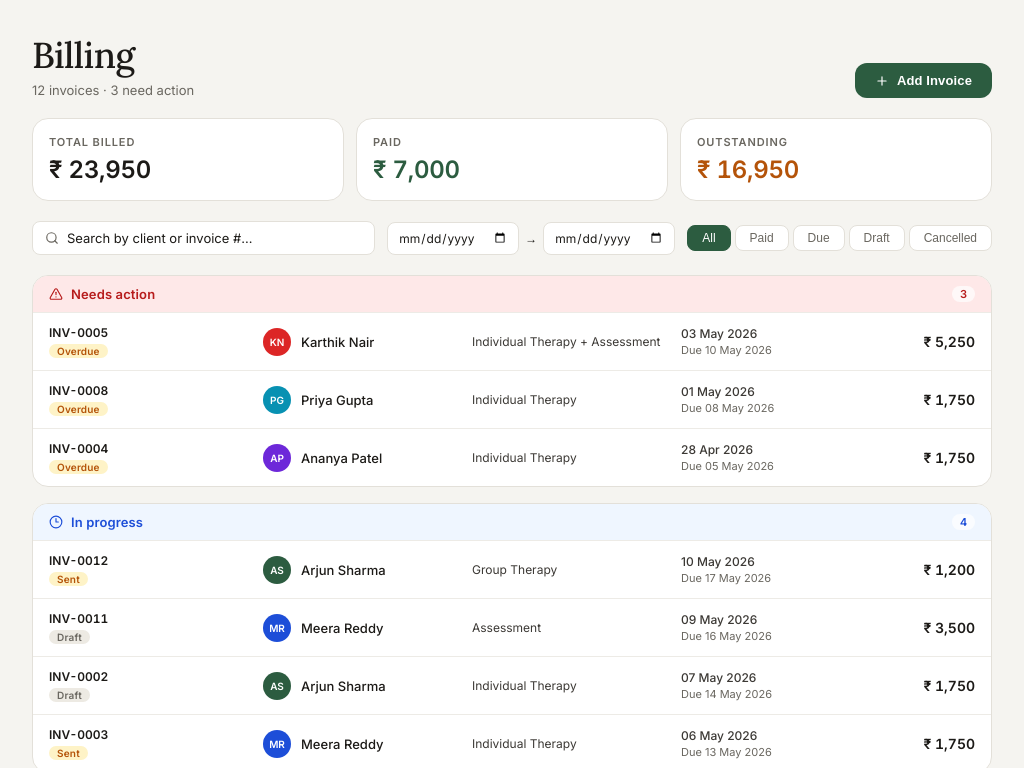
it: <Billing> page › Due status filter narrows to overdue sent only
Click the button "Due" at {"x": 819, "y": 238}, box [793,225,845,251]
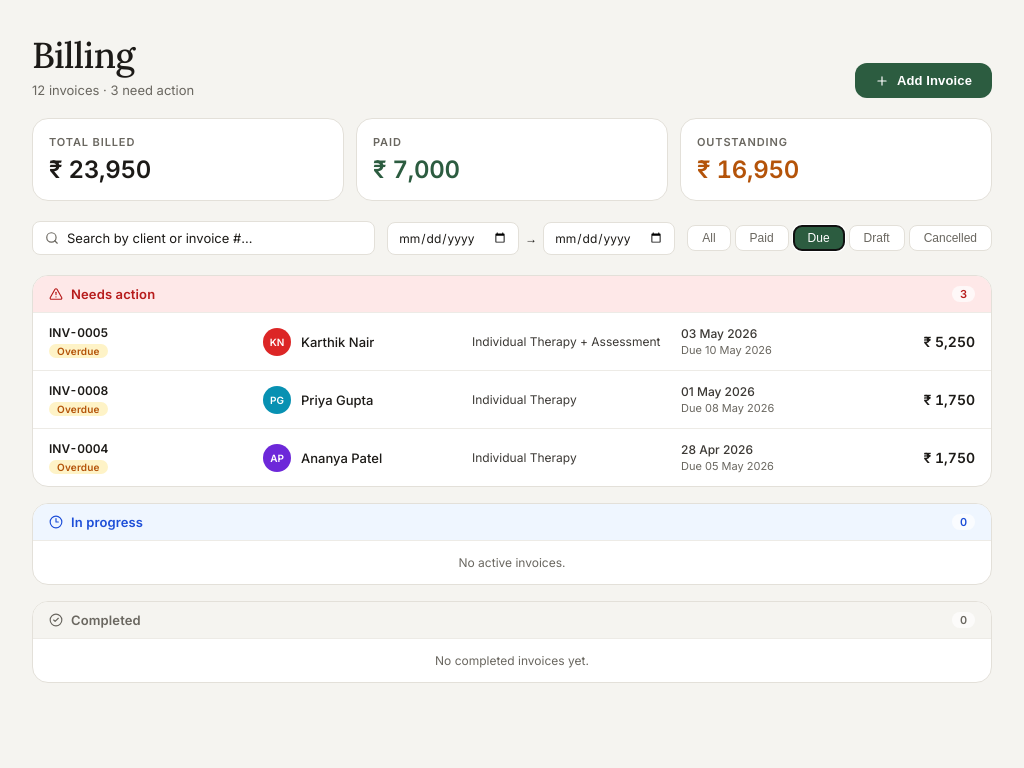
Expected: the text "INV-0004" is shown, [49,441,108,456]
Result: the button "INV-0003" is gone
